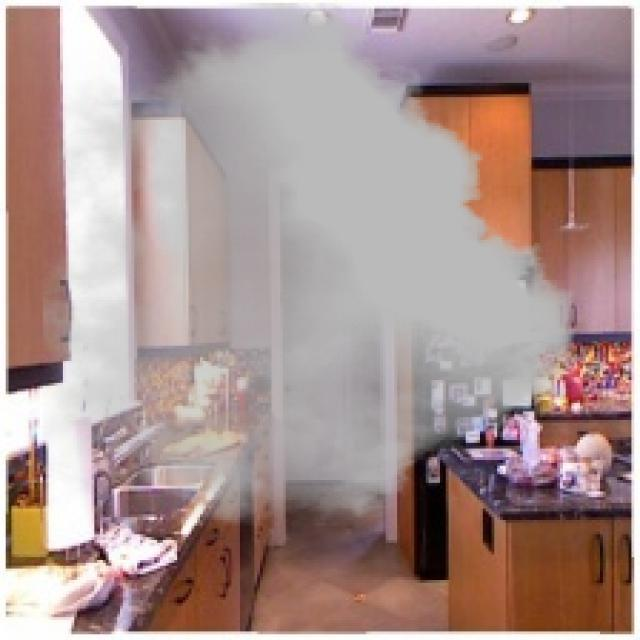Smoke: (42, 3, 574, 526)
